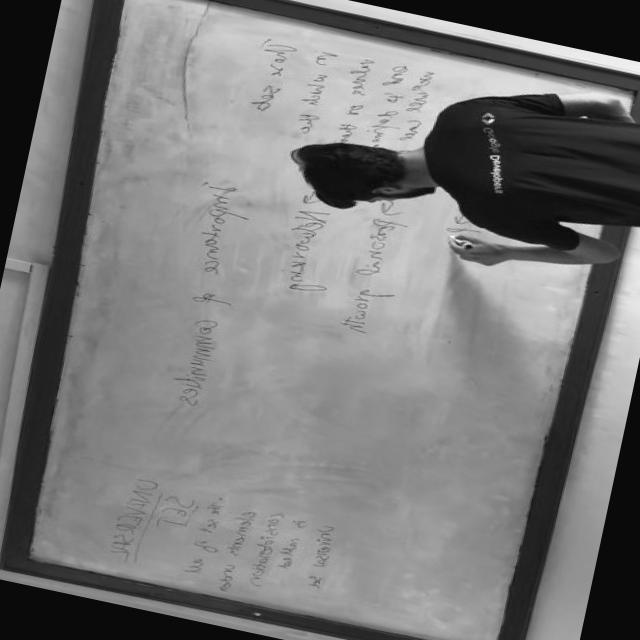Instructor: (274, 54, 640, 270)
White-board: (11, 0, 640, 640)
